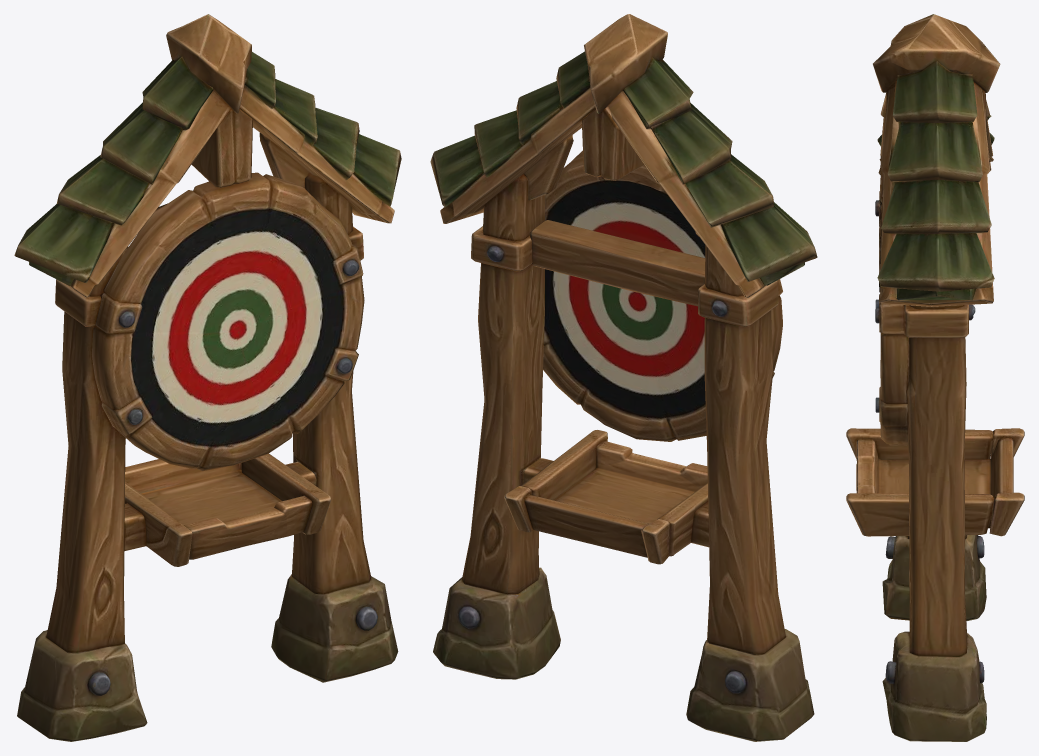
The model's file is jardin_cible.glb.
3 renders of one model, left to right at view 1: azimuth 30°, elevation 25°; view 2: azimuth 150°, elevation 25°; view 3: azimuth 270°, elevation 25°, orthographic. The views are drawn at different scales.
Bounding box in the file's own units: 0.5718 × 0.9512 × 0.2383.
Materials: 1 (1 with a texture image).
